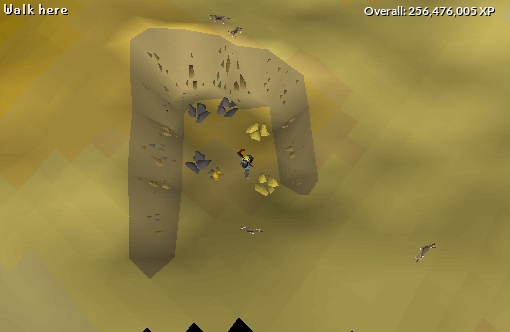depleted: (183, 150, 217, 178), (187, 100, 214, 125), (216, 95, 239, 119)
gold: (252, 171, 282, 199), (245, 120, 271, 143)
